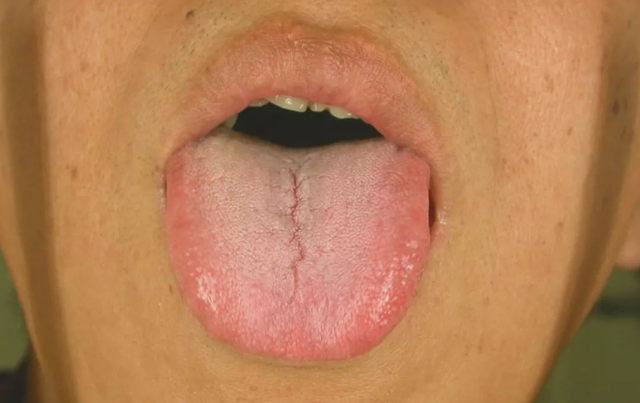baitaishe: (168, 127, 431, 361)
liewenshe: (284, 158, 307, 310)
